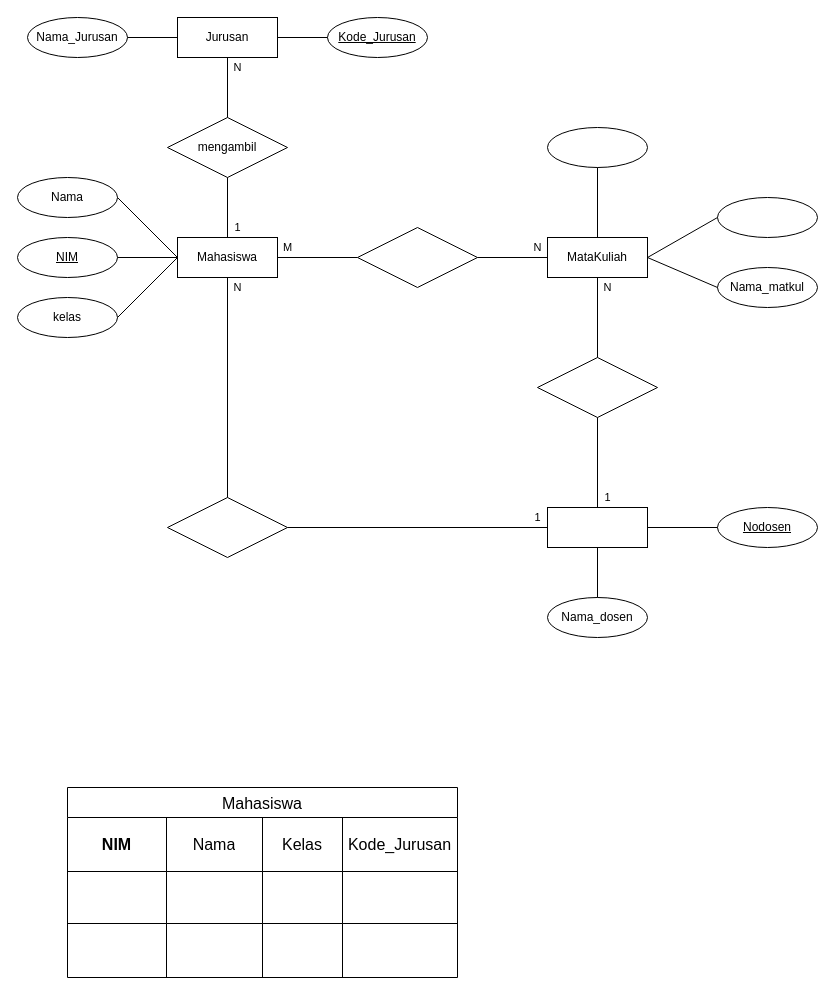
This 835x995 diagram has some shape labels left out. Each missing label, with the centre of its shape:
"dibimbing" belongs at [227,527].
"Dosen" belongs at [597,527].
"Kode_Matkul" belongs at [597,147].
"mengajar" belongs at [597,387].
"mengampu" belongs at [417,257].
"SKS" belongs at [767,217].
